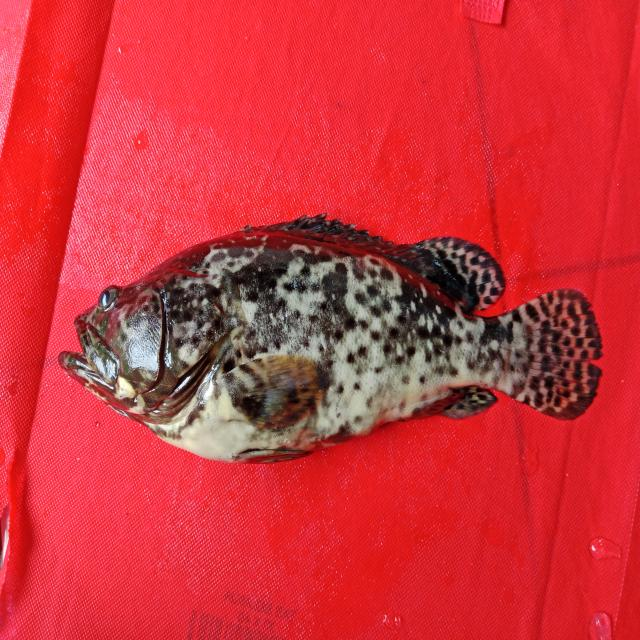ikan: (40, 177, 612, 483)
